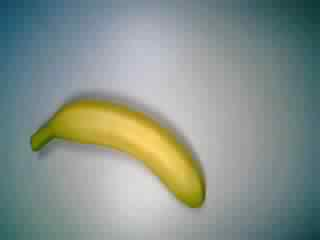banana: (28, 94, 207, 211)
